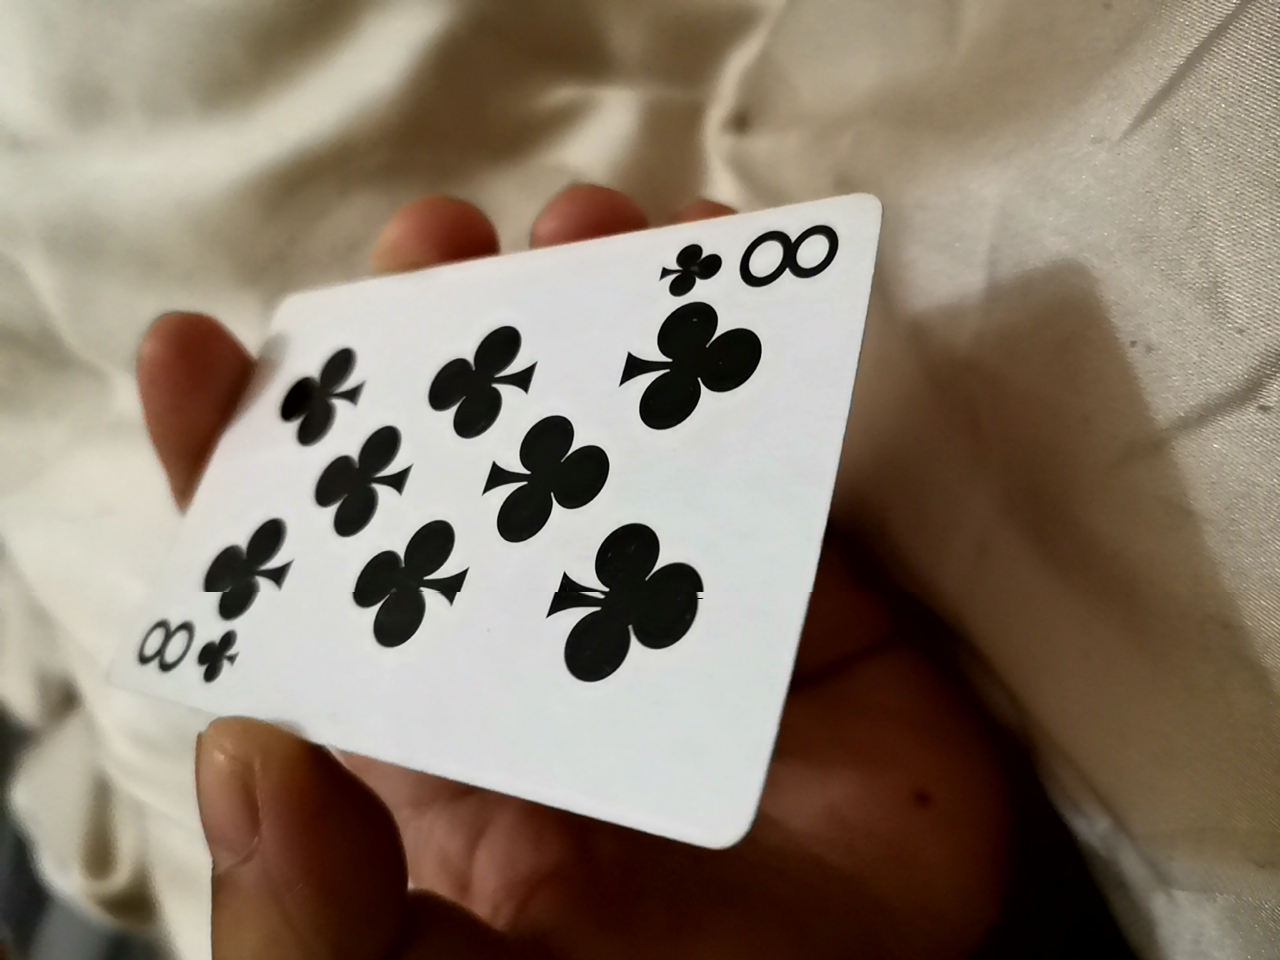mh 8: (107, 199, 892, 842)
